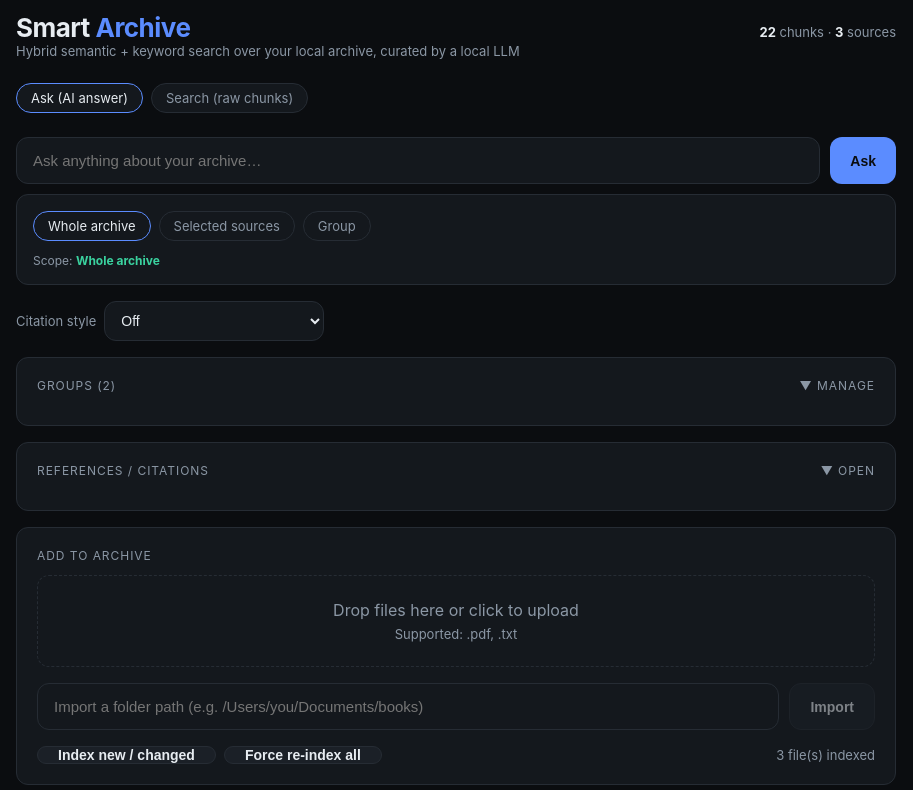
Test: scope controls (Req 15.1) › renders selectable sources as options in 'Selected sources' mode
Expected: the text "/archive/alpha.pdf" is not shown
Step 1. Click the text "Selected sources" → (227, 226), box [158,211,295,241]
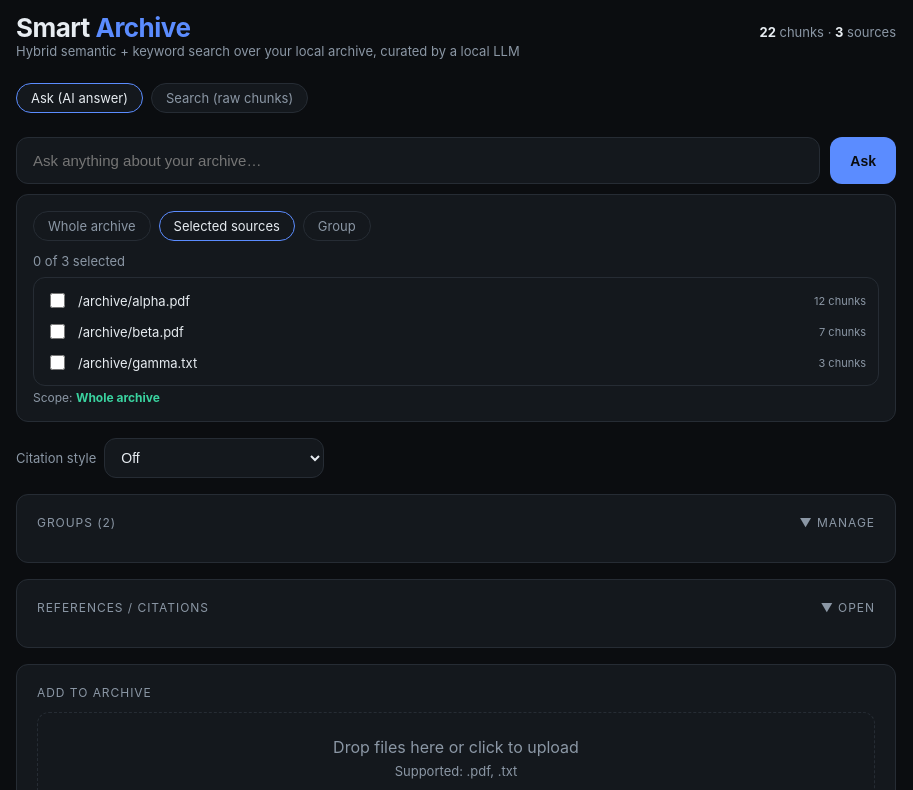
Expected: the text "/archive/alpha.pdf" is shown, [78,292,190,308]
Expected: the text "/archive/beta.pdf" is shown, [78,324,184,340]
Expected: the text "/archive/gamma.txt" is shown, [78,354,197,370]
